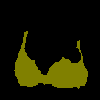reggiseno: (14, 31, 88, 89)
